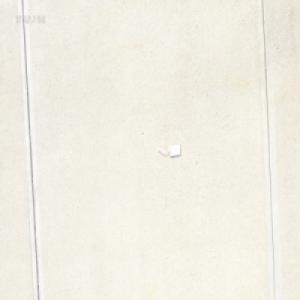LuggageTag: (155, 142, 180, 159)
